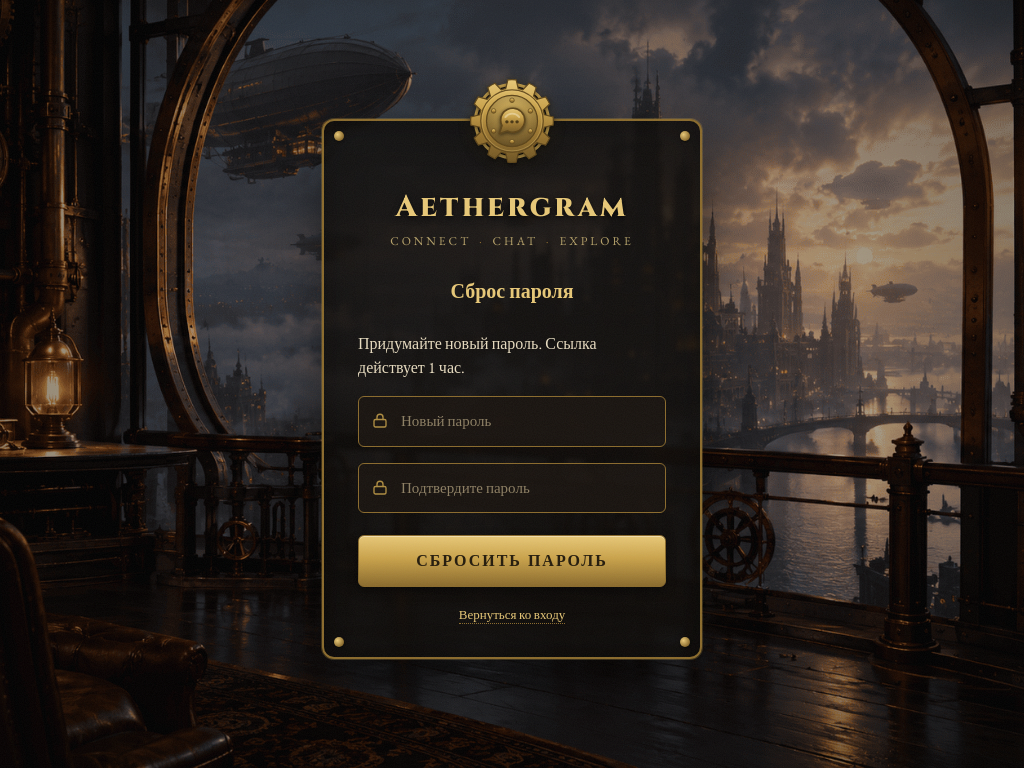
Test: ResetPasswordPage › shows the russian invalid-or-expired-link message on a uniform 400 without errors
Type "correct horse" into the password field labelled "Новый пароль" at point(512, 421), box [358,396,666,447]
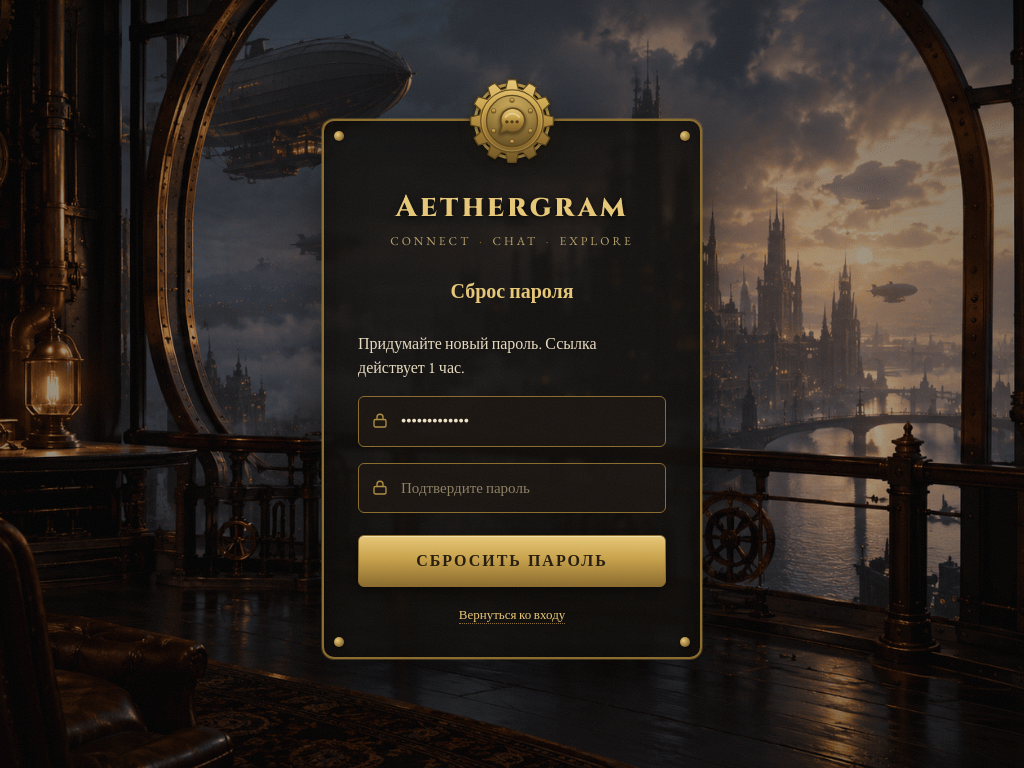
Type "correct horse" into the password field labelled "Подтвердите пароль" at point(512, 488), box [358,463,666,513]
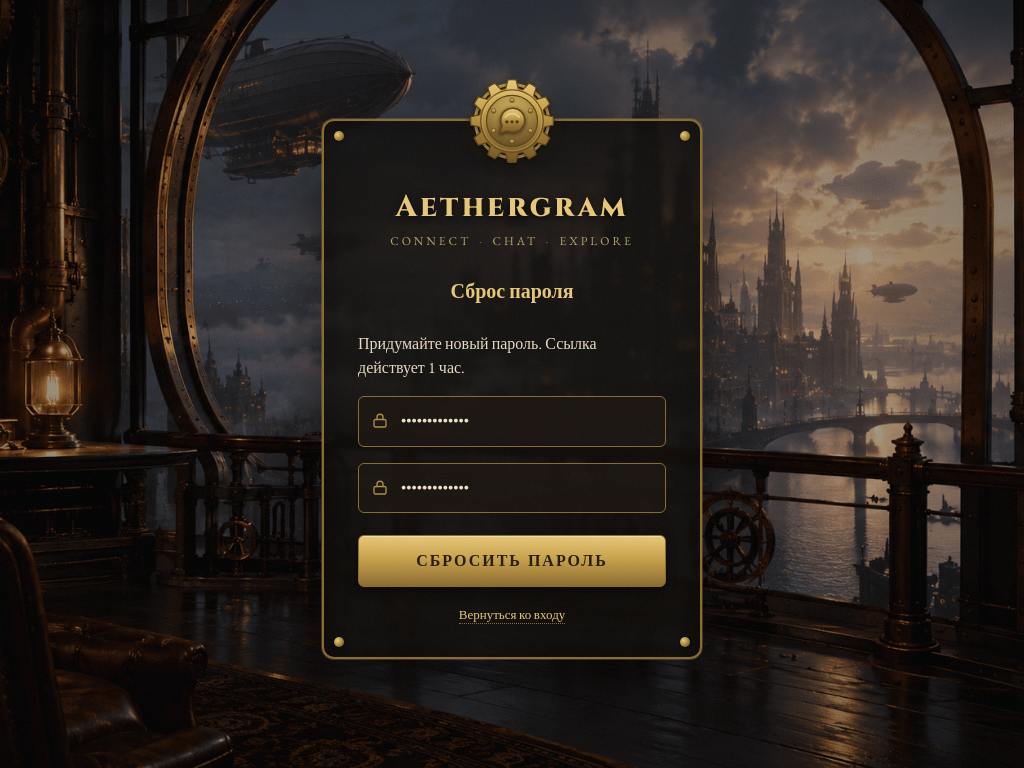
Click the button "СБРОСИТЬ ПАРОЛЬ" at point(512, 561), box [358,535,666,587]
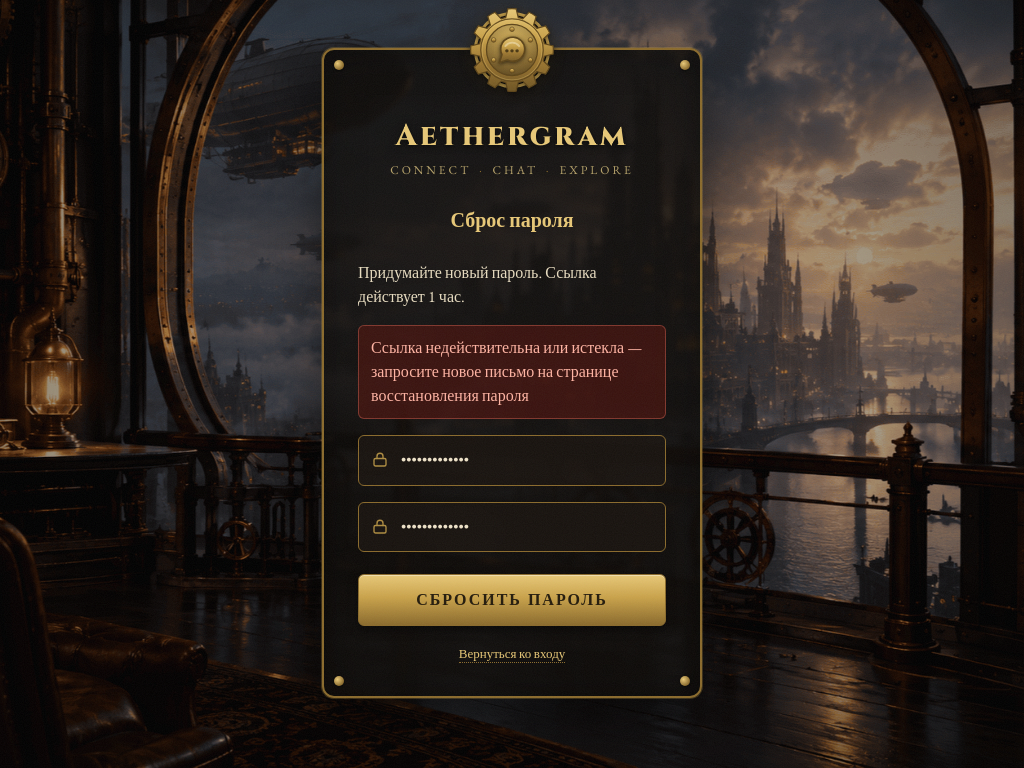
Now the message shows "Ссылка недействительна или истекла — запросите новое письмо на странице восстановления пароля", box [371,337,643,406]
